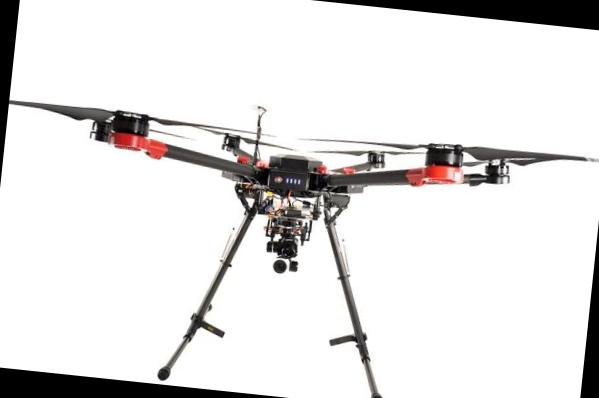drone: (1, 80, 586, 258)
